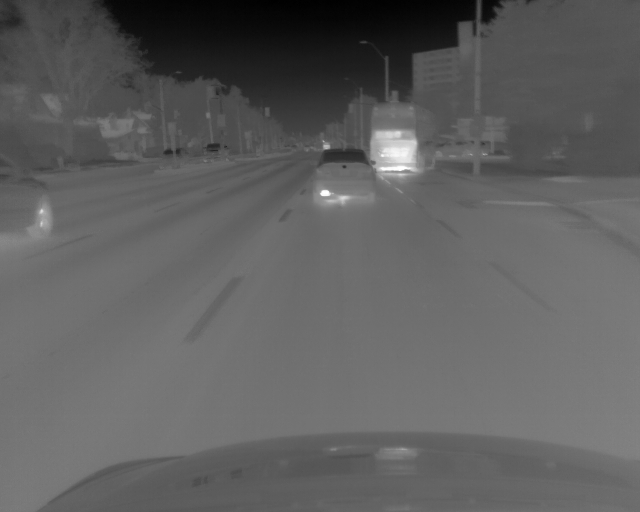car: (1, 148, 52, 244), (370, 103, 438, 174), (315, 148, 375, 205), (439, 139, 485, 159), (203, 142, 231, 164), (159, 148, 188, 168)
